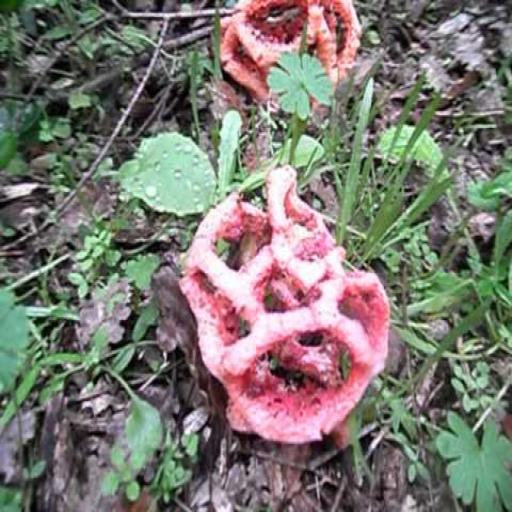Red Cage Fungus: (123, 157, 432, 472), (218, 0, 365, 92)
